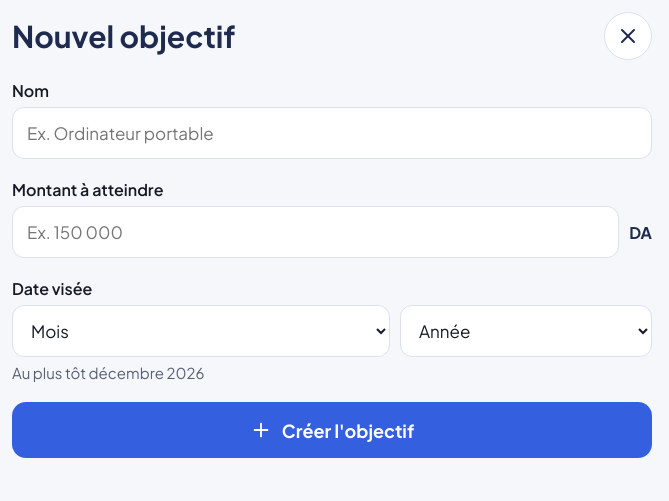
Test: GoalForm (création) › mois en cours refusé
The image size is (669, 501).
In the field labelled "Nom": (332, 133) [12,107,652,159], type "Vacances"
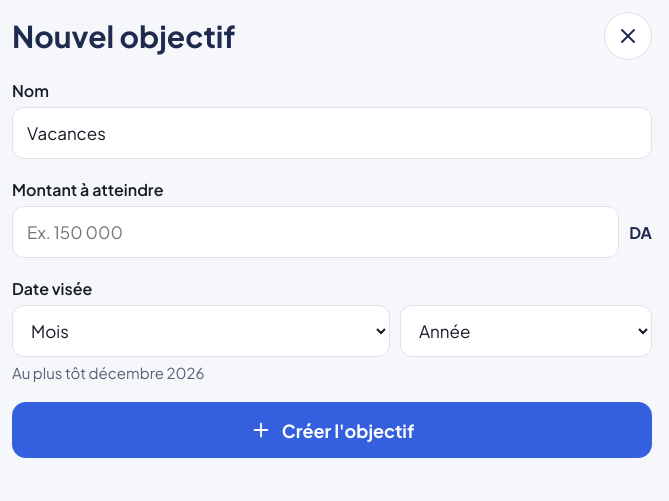
In the field labelled "Montant à atteindre": (316, 232) [12,206,619,258], type "40000"
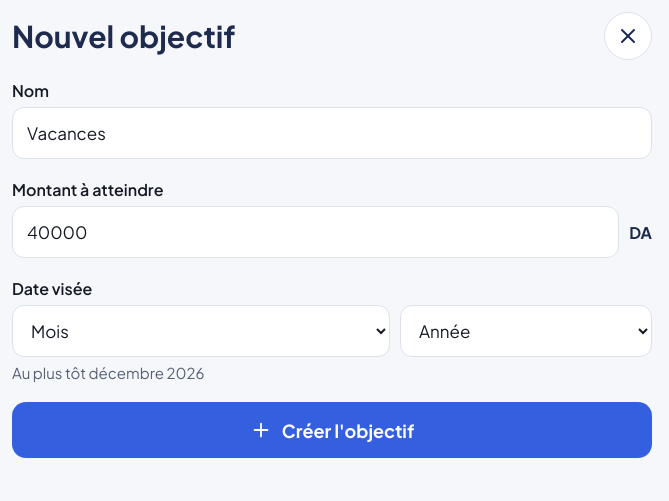
Select "novembre" in the dropdown named "Mois visé": (201, 331) [12,305,390,357]
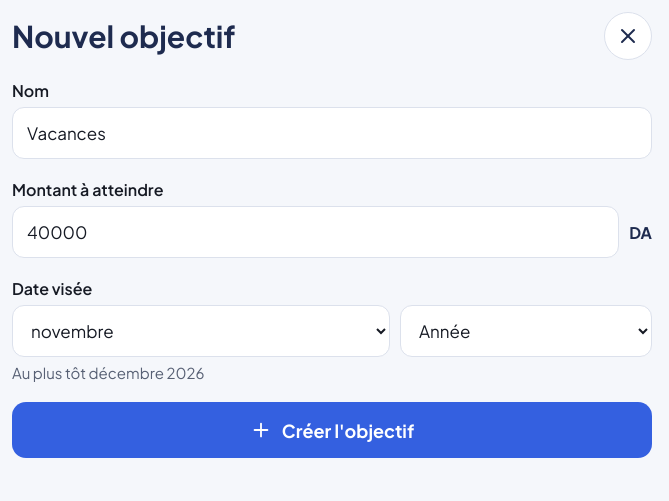
Select "2026" in the dropdown named "Année visée": (526, 331) [400,305,652,357]
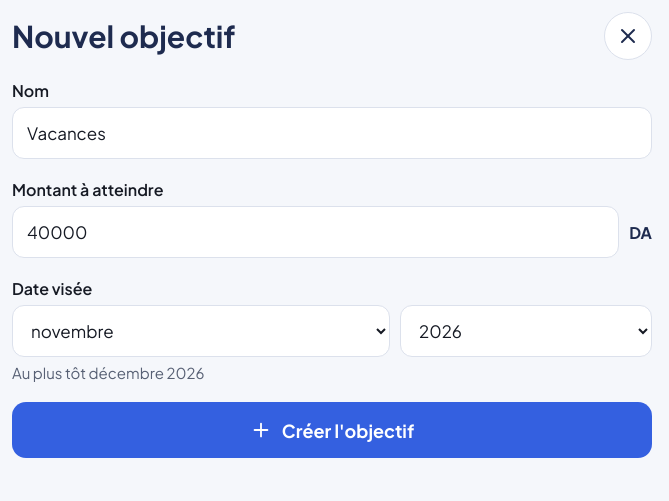
Click the button "Créer l'objectif": (332, 430) [12,402,652,458]
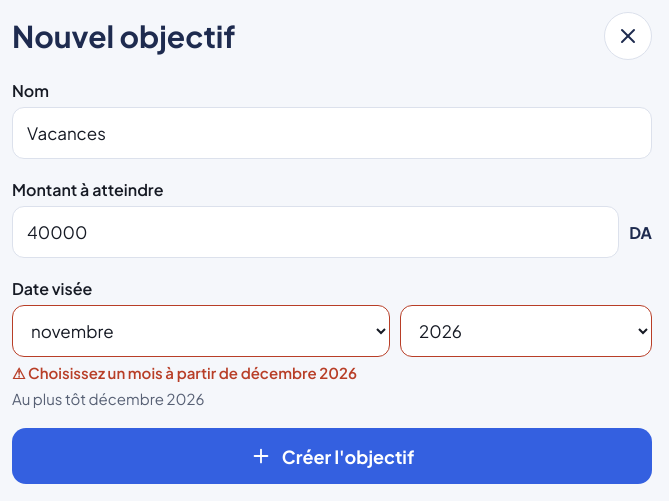
Now the text "Choisissez un mois à partir de décembre 2026" is shown, box [28,363,357,382]
